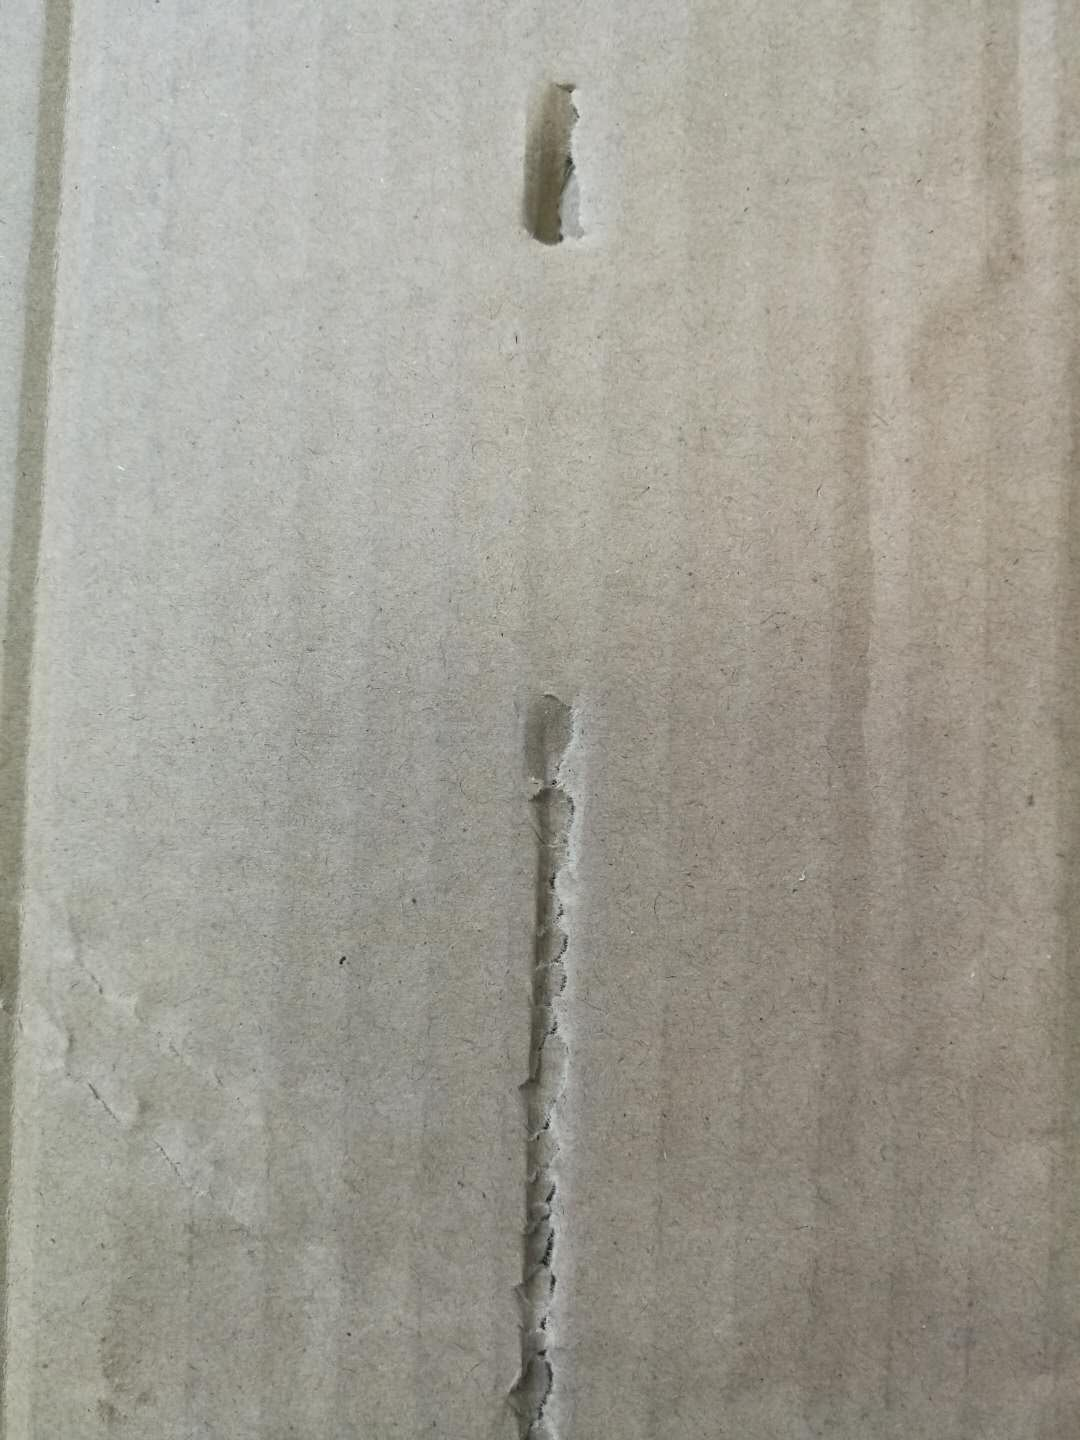defect: (449, 664, 661, 1440), (1, 1, 119, 1273), (20, 879, 322, 1264), (786, 347, 945, 1010), (894, 2, 1080, 393), (482, 56, 635, 262)
